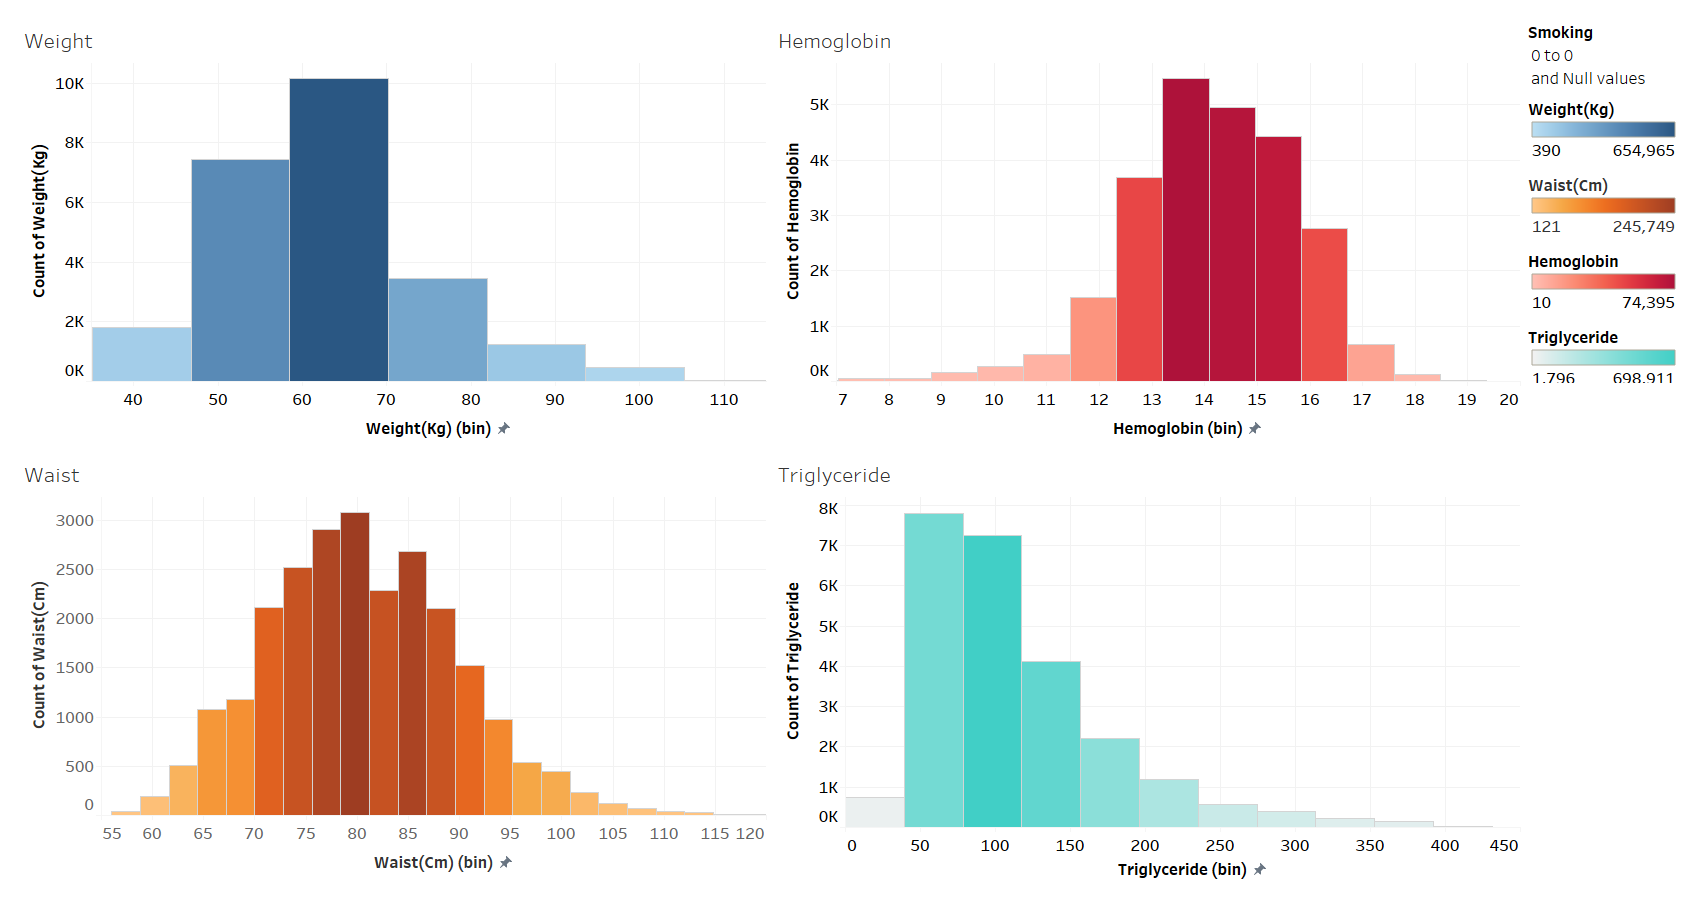

What the dashboard file says about the page in this screenshot:
{"tool":"tableau","page":{"name":"Smoking Dashboard","canvas":[1700,900],"ordinal":0},"visuals":[{"type":"worksheet","title":"Weight","mark":"Automatic","rows":["weight(kg)"],"cols":["Weight(Kg) (bin)"],"box":[16,16,754,434]},{"type":"worksheet","title":"Hemoglobin","mark":"Automatic","rows":["hemoglobin"],"cols":["Hemoglobin (bin)"],"box":[770,16,754,434]},{"type":"filter","title":"Weight","param":"[federated.01k2iy213sc6oz12y0rm01hf327z].[none:smoking:qk]","box":[1524,16,160,69]},{"type":"legend","title":"Weight","param":"[federated.01k2iy213sc6oz12y0rm01hf327z].[sum:weight(kg):qk]","box":[1524,85,160,65]},{"type":"legend","title":"Waist","param":"[federated.01k2iy213sc6oz12y0rm01hf327z].[sum:waist(cm):qk]","box":[1524,150,160,65]},{"type":"legend","title":"Hemoglobin","param":"[federated.01k2iy213sc6oz12y0rm01hf327z].[sum:hemoglobin:qk]","box":[1524,215,160,65]},{"type":"legend","title":"Triglyceride","param":"[federated.01k2iy213sc6oz12y0rm01hf327z].[sum:triglyceride:qk]","box":[1524,280,160,69]},{"type":"worksheet","title":"Waist","mark":"Automatic","rows":["waist(cm)"],"cols":["Waist(Cm) (bin)"],"box":[16,450,754,434]},{"type":"worksheet","title":"Triglyceride","mark":"Automatic","rows":["triglyceride"],"cols":["Triglyceride (bin)"],"box":[770,450,754,434]}]}

Visuals, with their boxes in screenshot pixels (x1, y1, x2, y2), scaled from the page's 1700x900 canvas onto the 1700x900 screenshot:
"Weight" worksheet: [16,16,770,450]
"Hemoglobin" worksheet: [770,16,1524,450]
"Weight" filter: [1524,16,1684,85]
"Weight" legend: [1524,85,1684,150]
"Waist" legend: [1524,150,1684,215]
"Hemoglobin" legend: [1524,215,1684,280]
"Triglyceride" legend: [1524,280,1684,349]
"Waist" worksheet: [16,450,770,884]
"Triglyceride" worksheet: [770,450,1524,884]
